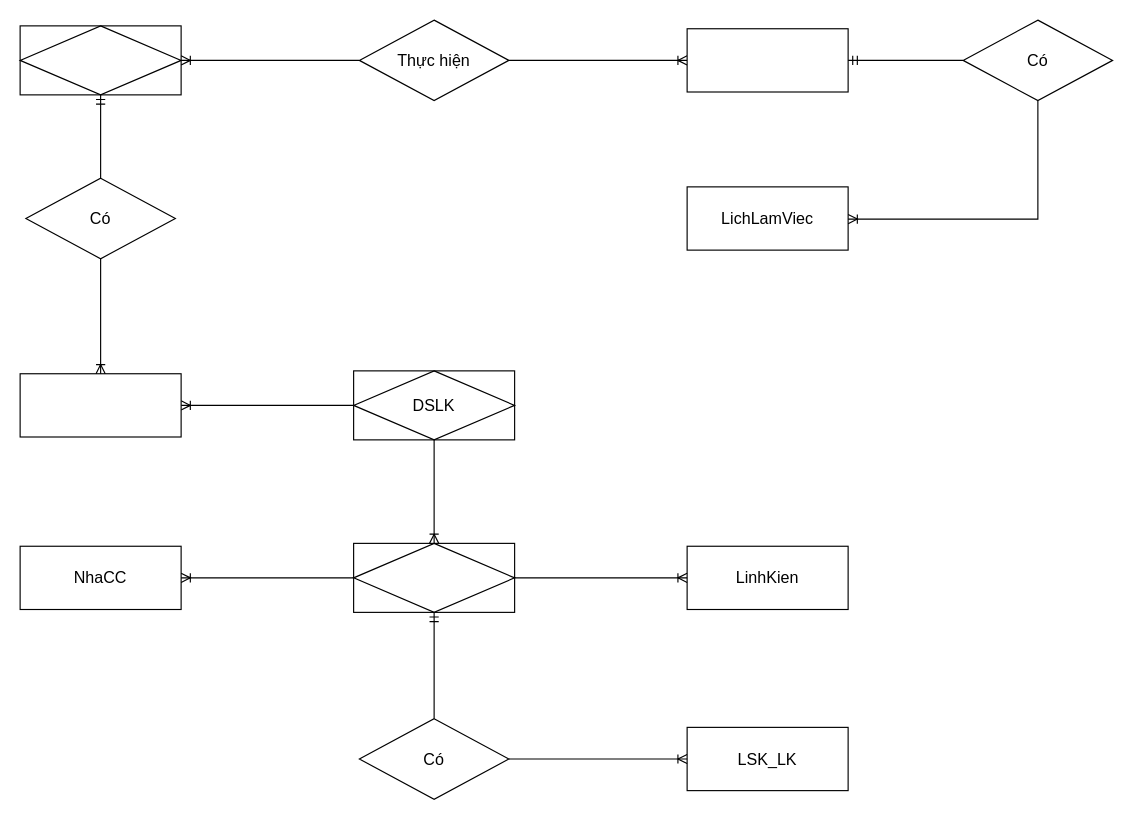
Image size: 1133x820. Some labels were removed from this diagram. Here are the shapes that lost their labels. From the top down, the centre of each, then its label:
point (100, 60): CTDV
point (767, 60): NhanVien
point (100, 405): BaoTri
point (433, 577): LK_NCC
